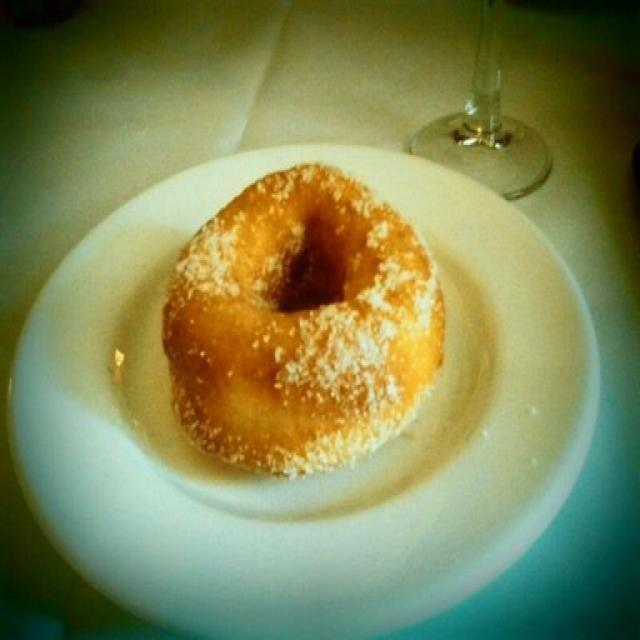Donuts: (162, 155, 478, 487)
